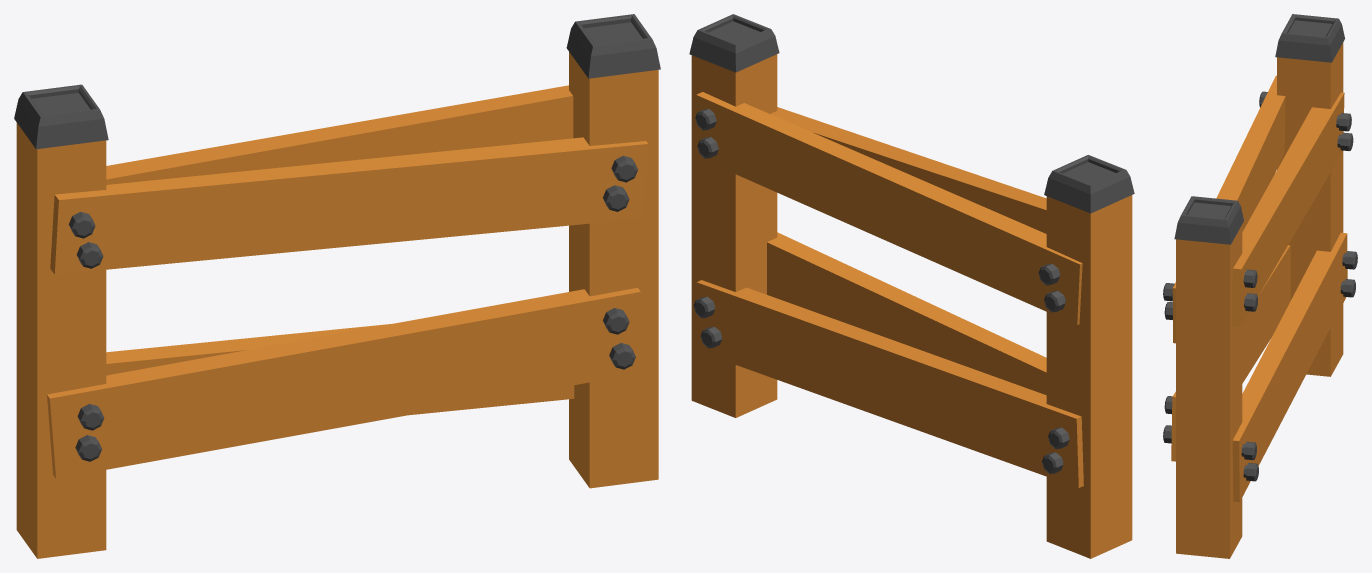
Rendered from Fence.fbx.
The picture shows the model from 3 angles, left to right: view 1: azimuth 30°, elevation 25°; view 2: azimuth 150°, elevation 25°; view 3: azimuth 270°, elevation 25°; orthographic projection. The views are drawn at different scales.
Parts seen in each view (by area): view 1: Fence01; view 2: Fence01; view 3: Fence01.
Part boxes in pixels (left/top/right/bottom): Fence01: left=14, top=14, right=660, bottom=558; Fence01: left=689, top=14, right=1134, bottom=558; Fence01: left=1163, top=14, right=1357, bottom=558.
Size of the model in its own units: 105 by 77.68 by 40.73.
